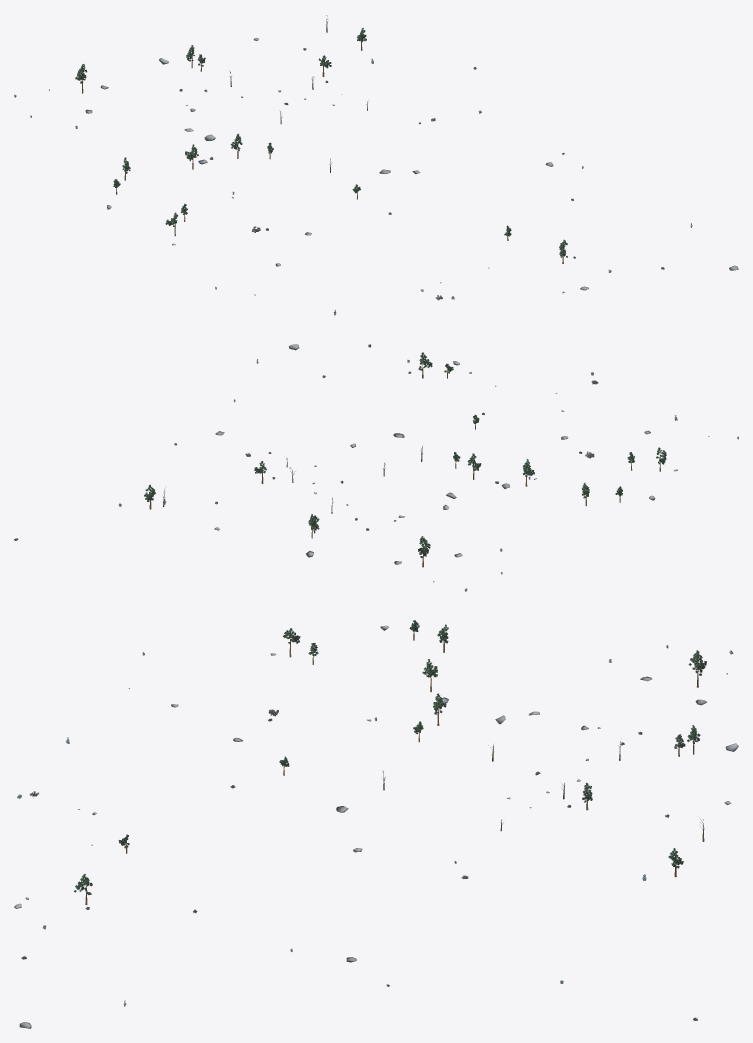
Rendered from frost_land_scatter_c16_10.glb.
3 views of the same model, one above another, from view 1: azimuth 30°, elevation 25°; view 2: azimuth 150°, elevation 25°; view 3: azimuth 270°, elevation 25° (orthographic). The views are drawn at different scales.
Visible parts, largest first — view 1: frost_land_scatter_c16_10; view 2: frost_land_scatter_c16_10; view 3: frost_land_scatter_c16_10.
Boxes of the visible parts, left/top/right/bottom form: frost_land_scatter_c16_10: left=14, top=15, right=738, bottom=315; frost_land_scatter_c16_10: left=14, top=344, right=738, bottom=591; frost_land_scatter_c16_10: left=14, top=620, right=738, bottom=1028.
Bounding box in the file's own units: 253 × 53.17 × 253.
